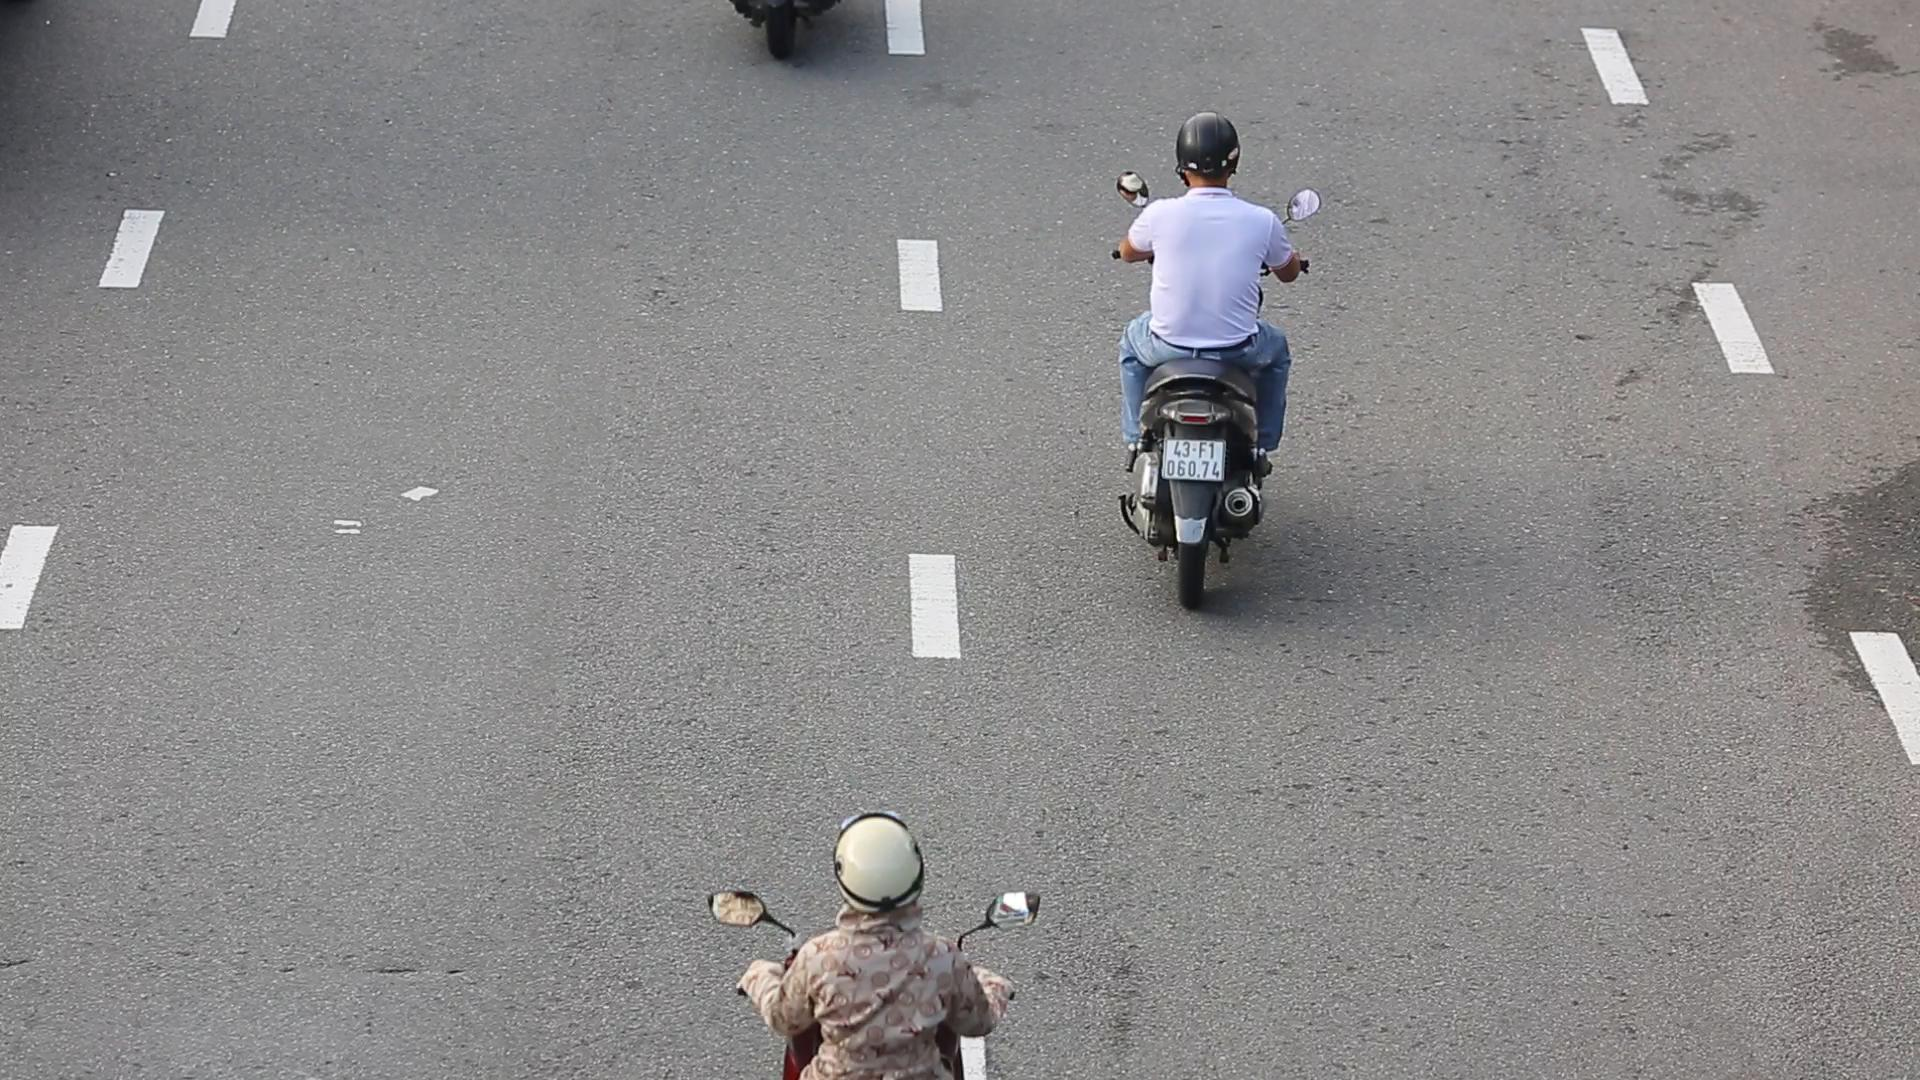motobike: (1104, 96, 1323, 617)
